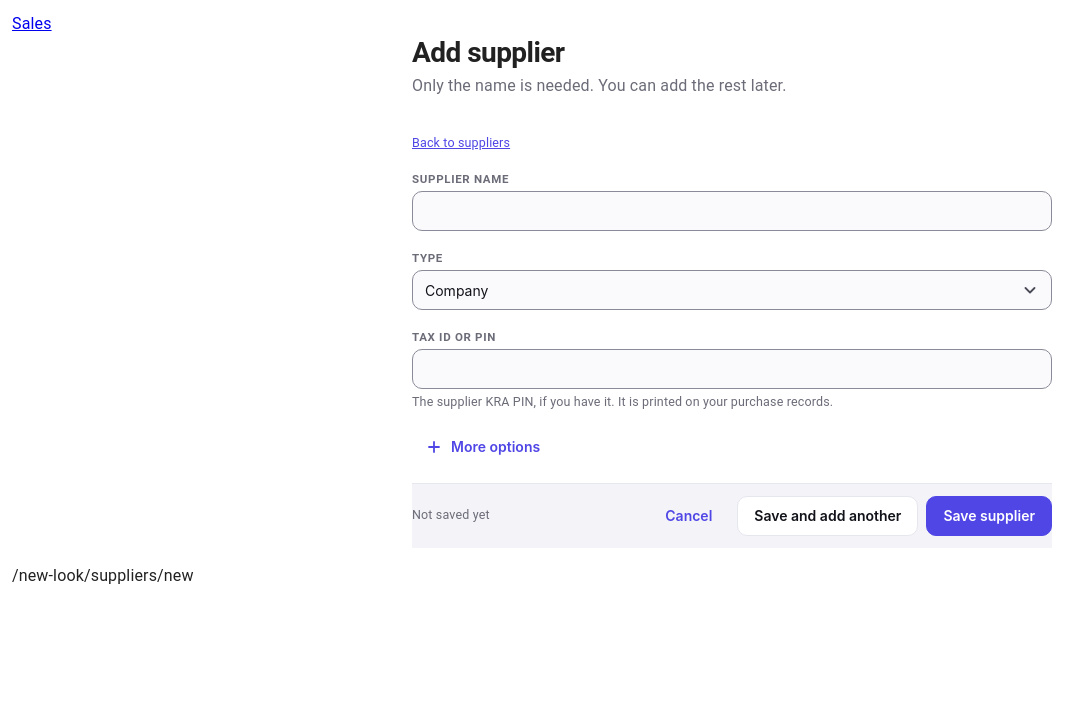
Test: errors beside the field and in the summary (AC-26) › typing in a field with an error takes that error away
The image size is (1073, 722).
Click the button "Save supplier". click: (989, 516)
box: [926,496,1052,536]
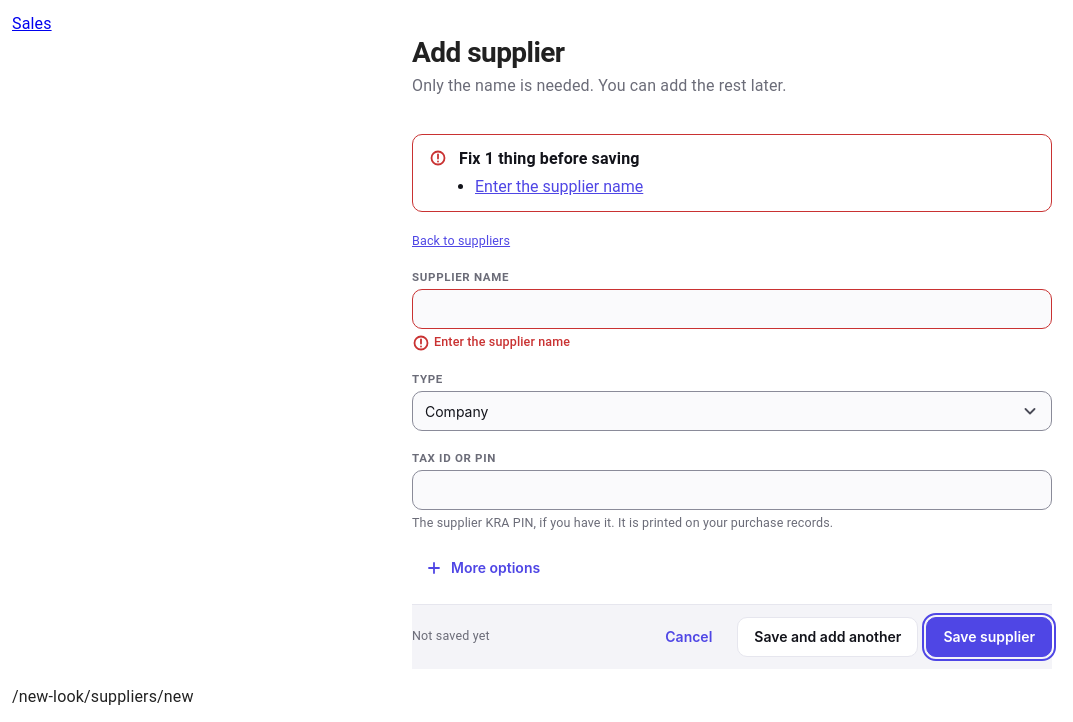
Type "B" into the field labelled "Supplier name". click: (732, 309)
box: [413,290,1051,328]
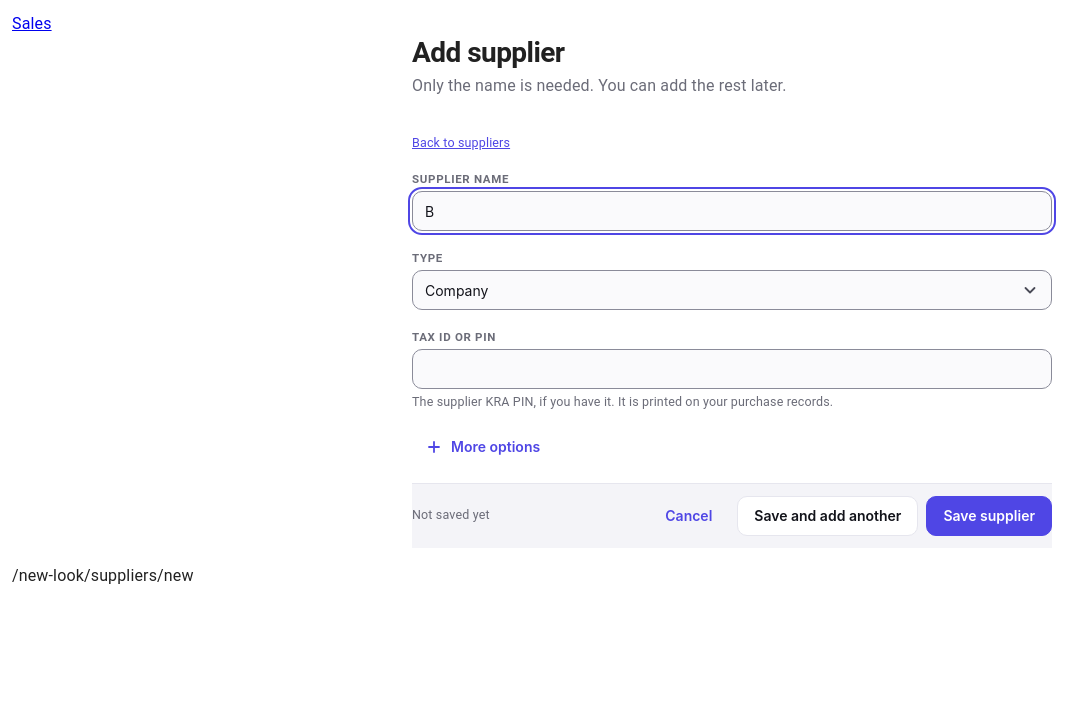
Now the button "Enter the supplier name" is gone
